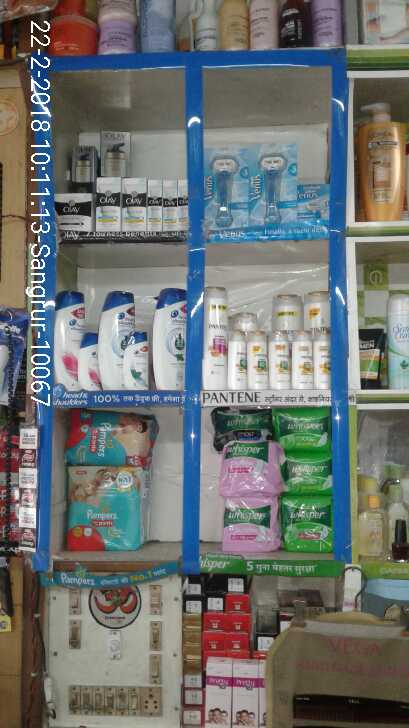venus: (201, 152, 247, 234), (255, 149, 295, 226), (295, 186, 332, 226)
